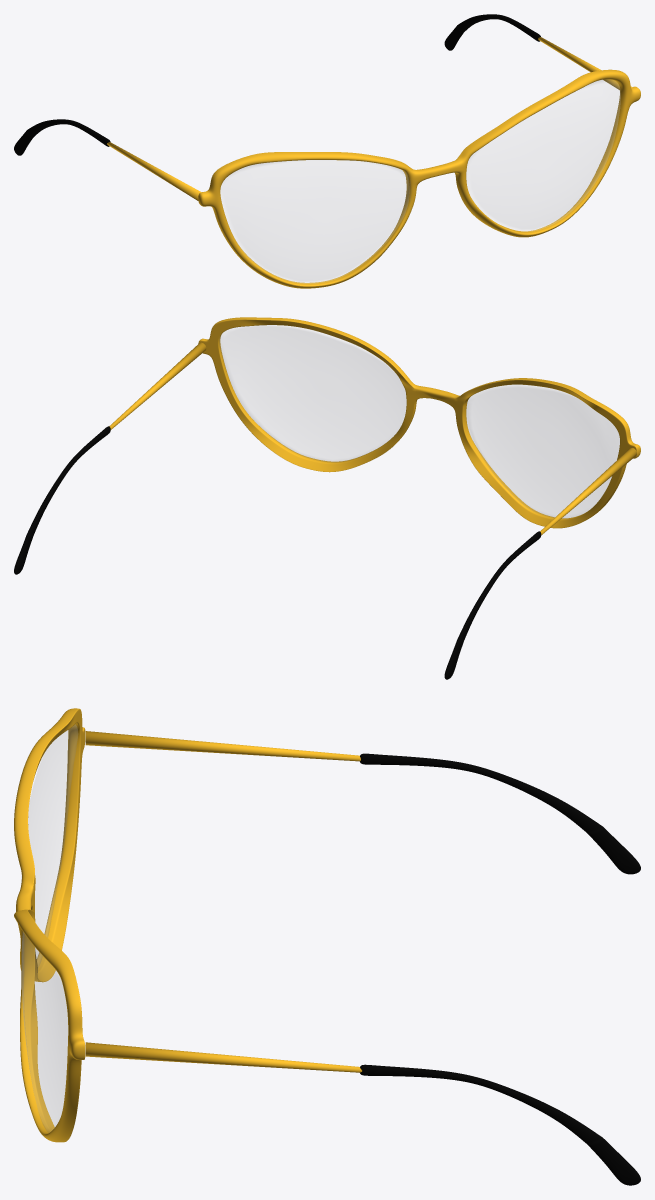
The model's file is lente-lis-version4(13).glb.
The picture shows the model from 3 angles, top to bottom: view 1: azimuth 30°, elevation 25°; view 2: azimuth 150°, elevation 25°; view 3: azimuth 270°, elevation 25°; orthographic projection. The views are drawn at different scales.
Visible parts, largest first — view 1: CRISTALES, marcos.002, PATAS OREJAS, PATAS CARAS; view 2: CRISTALES, marcos.002, PATAS OREJAS, PATAS CARAS; view 3: marcos.002, CRISTALES, PATAS OREJAS, PATAS CARAS.
Part boxes in pixels (x1=…): CRISTALES: x1=220, y1=79, x2=620, y2=283; marcos.002: x1=198, y1=69, x2=640, y2=288; PATAS OREJAS: x1=14, y1=14, x2=540, y2=155; PATAS CARAS: x1=107, y1=37, x2=632, y2=200; CRISTALES: x1=219, y1=325, x2=619, y2=518; marcos.002: x1=198, y1=317, x2=640, y2=528; PATAS OREJAS: x1=14, y1=426, x2=541, y2=679; PATAS CARAS: x1=109, y1=342, x2=636, y2=534; marcos.002: x1=14, y1=708, x2=85, y2=1142; CRISTALES: x1=21, y1=725, x2=77, y2=1132; PATAS OREJAS: x1=360, y1=753, x2=640, y2=1185; PATAS CARAS: x1=85, y1=731, x2=361, y2=1072.
Size of the model in its own units: 3.19 by 0.9839 by 2.66.
